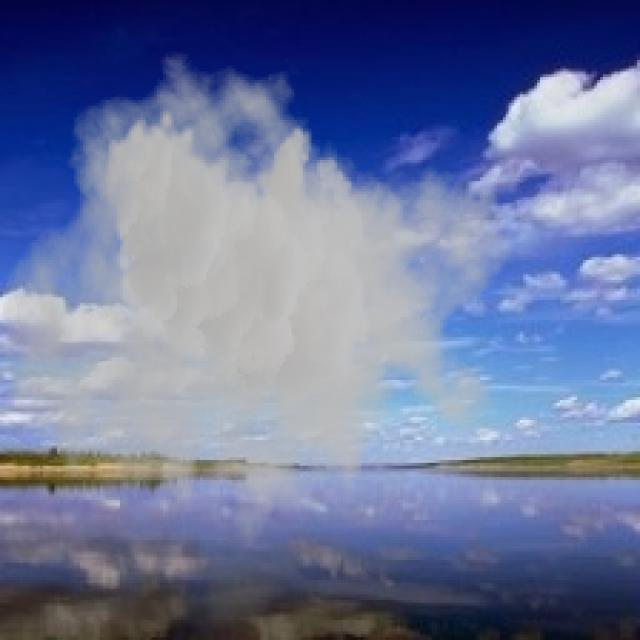Smoke: (0, 51, 515, 572)
